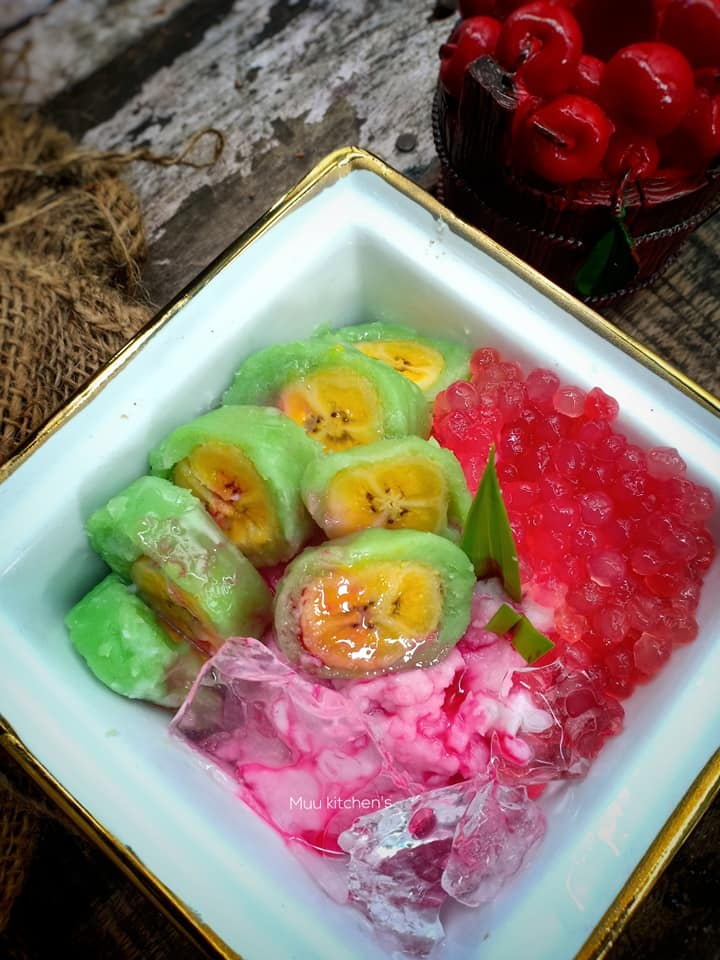pisang_ijo: (288, 535, 479, 692)
